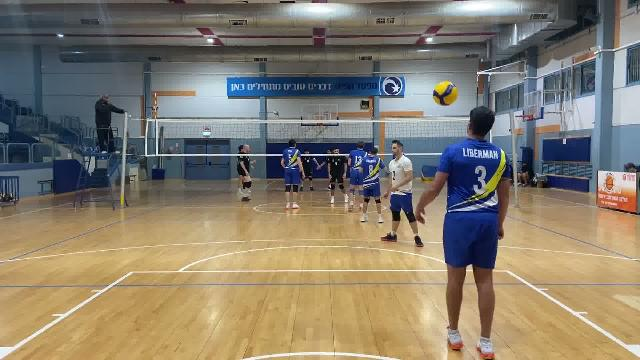ball: (430, 77, 464, 106)
